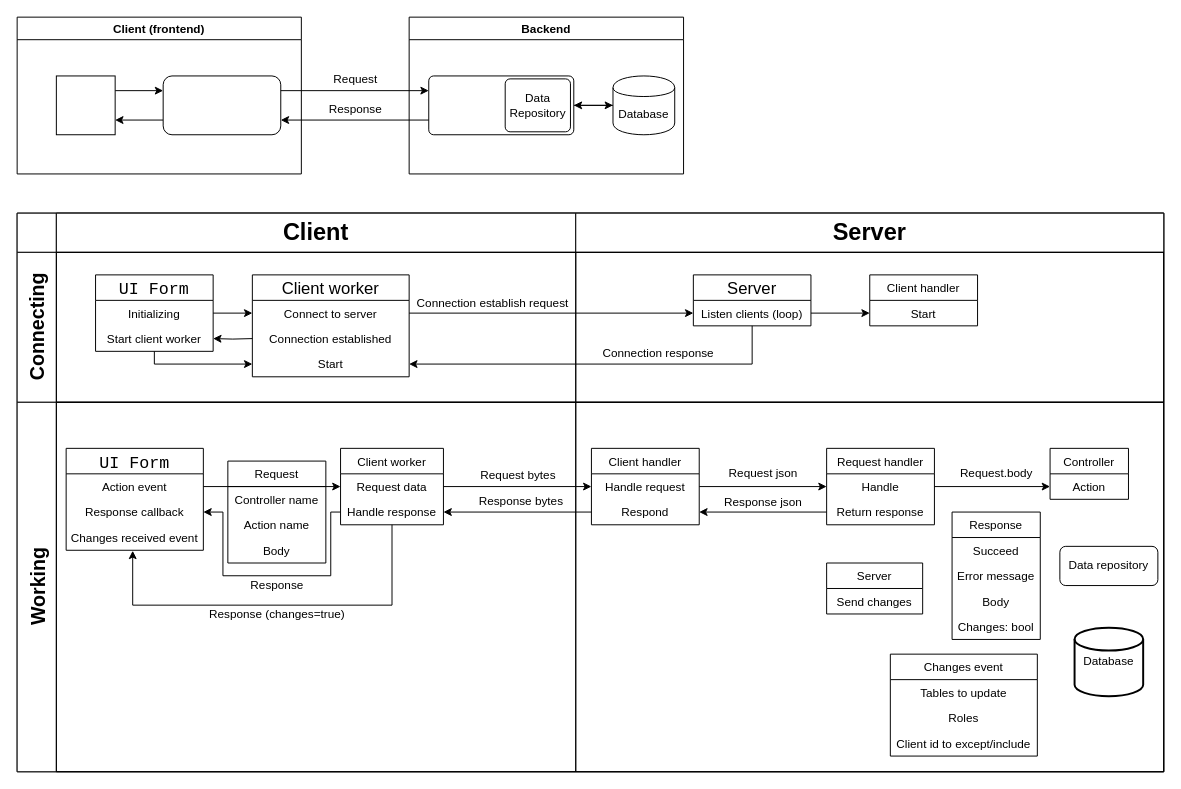
Image size: 1181x789. Some labels were removed from this diagram. Here are the shapes that lost their labels. From the top down, the centre of each, then its label:
At point 85,105: "UI".
At point 221,105: "Client worker (socket)".
At point 464,105: "Server (socket)".
